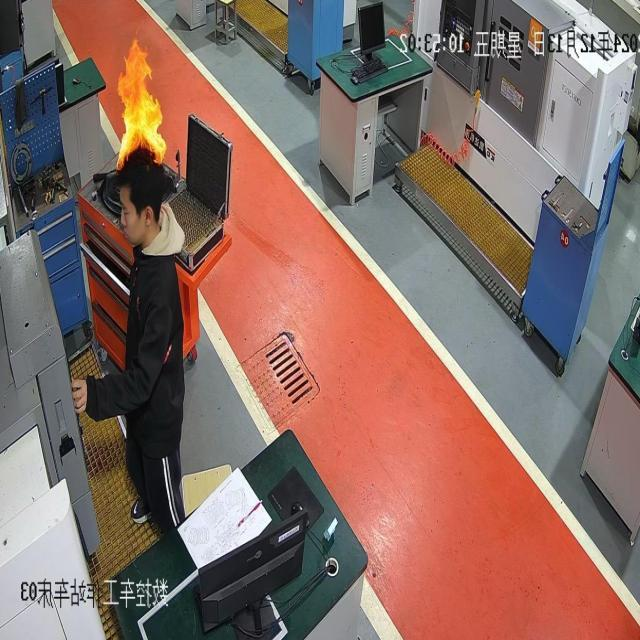smoke: (114, 34, 169, 171)
